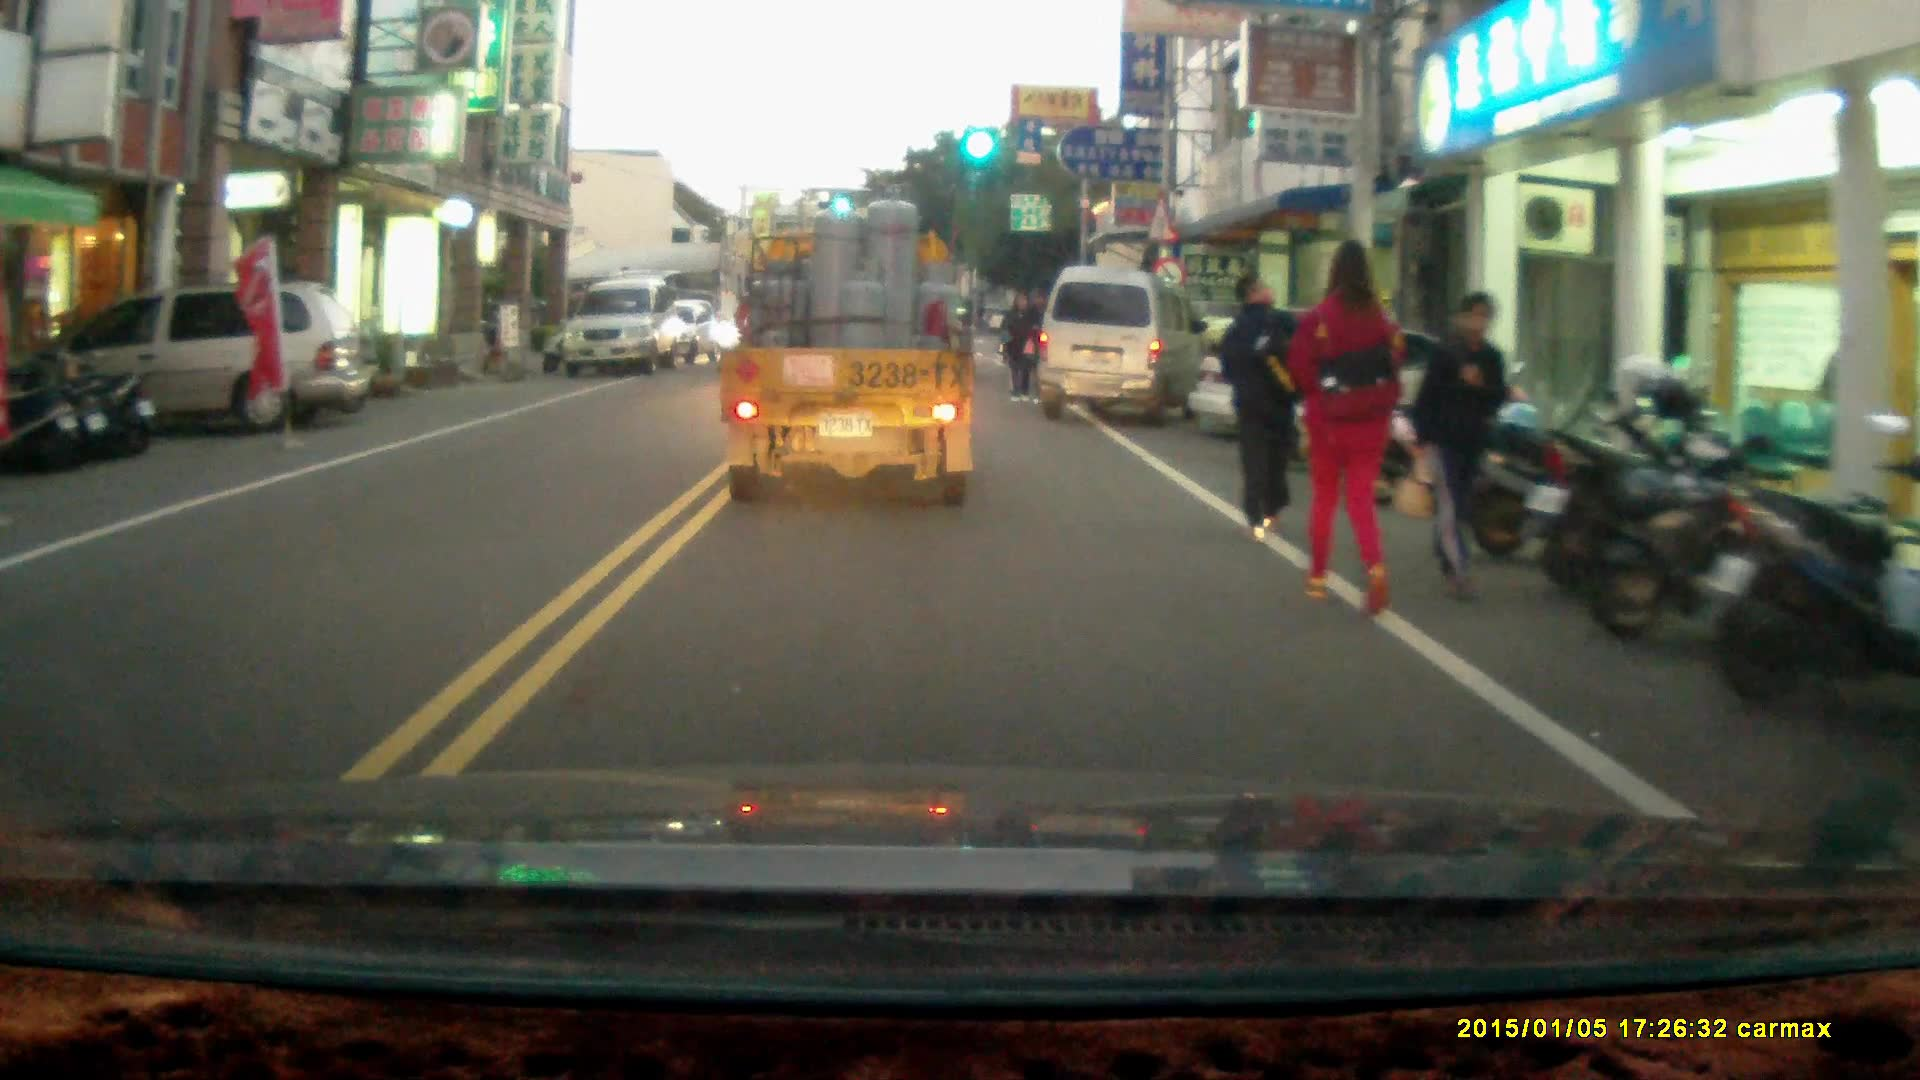pedestrian: (1285, 235, 1402, 617), (1413, 287, 1510, 603), (1216, 270, 1313, 547), (998, 290, 1033, 402)
vehicle: (715, 177, 984, 514), (40, 281, 379, 441), (1038, 263, 1201, 422), (567, 277, 691, 380)
